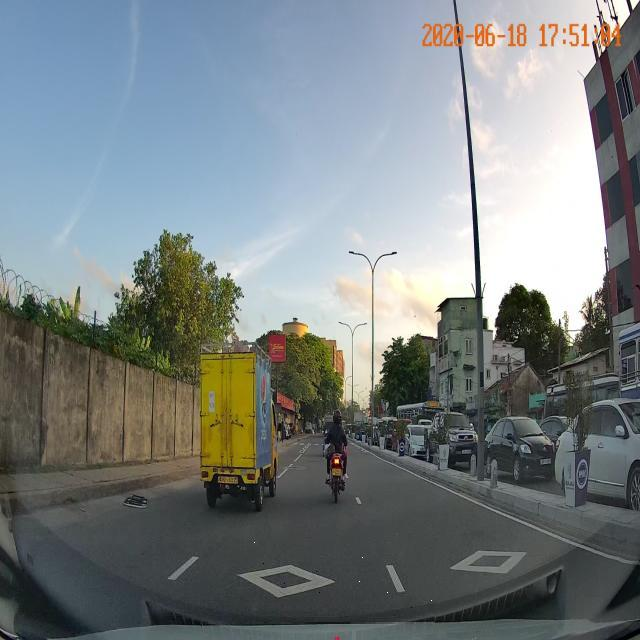diamond: (143, 539, 434, 623)
